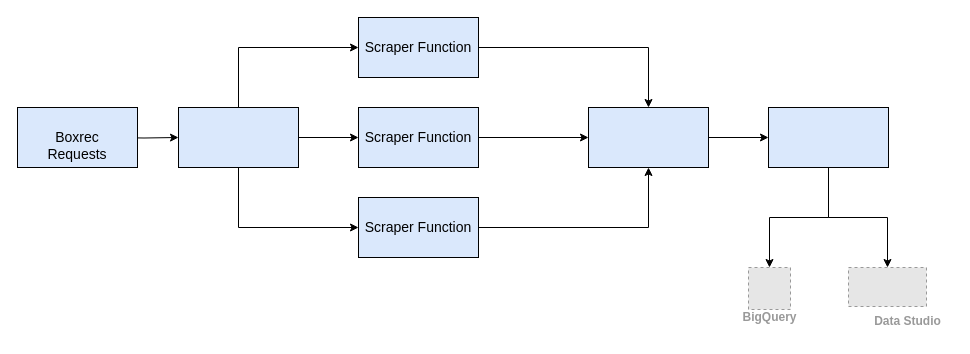
This 970x354 diagram has some shape labels left out. Grey dashed boxes stand in for pictures. The box of each missing label's shape, as (x1, y1, x2, y2) in pixels:
Beautifulsoup: (178, 106, 298, 168)
Create Dataframe: (588, 106, 708, 168)
To CSV: (768, 106, 888, 168)
